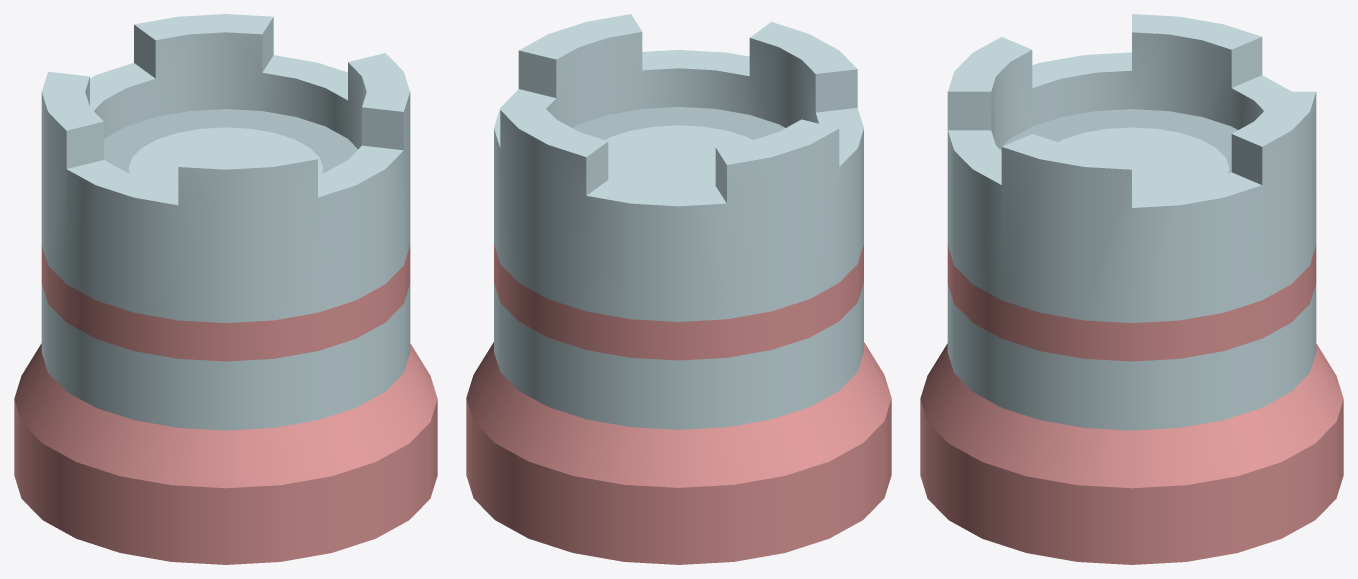
File: towerRound_sampleA.glb
The picture shows the model from 3 angles, left to right: view 1: azimuth 30°, elevation 25°; view 2: azimuth 150°, elevation 25°; view 3: azimuth 270°, elevation 25°; orthographic projection.
Parts seen in each view (by area): view 1: towerRound_sampleA; view 2: towerRound_sampleA; view 3: towerRound_sampleA.
Part boxes in pixels (x1,y1,x2,y2): towerRound_sampleA: (14, 14, 437, 564); towerRound_sampleA: (466, 14, 891, 564); towerRound_sampleA: (920, 14, 1343, 564).
Size of the model in its own units: 1 by 1 by 1.
